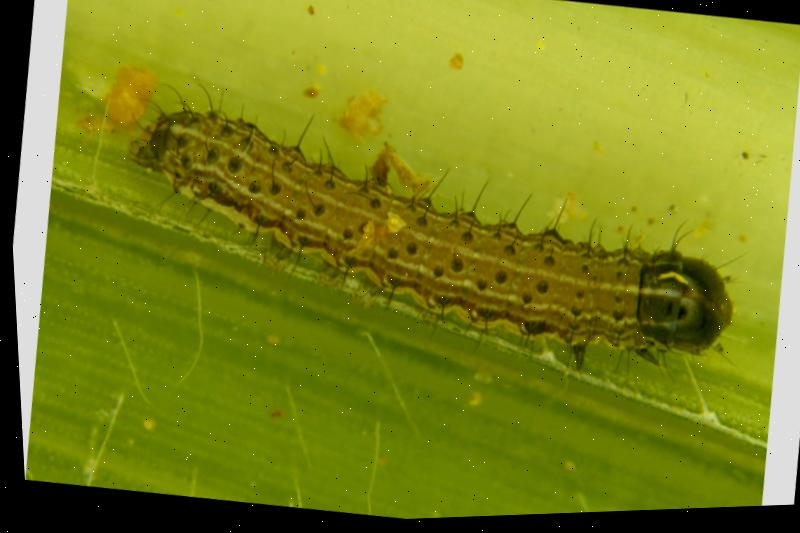fall-armyworm: (148, 112, 731, 376)
